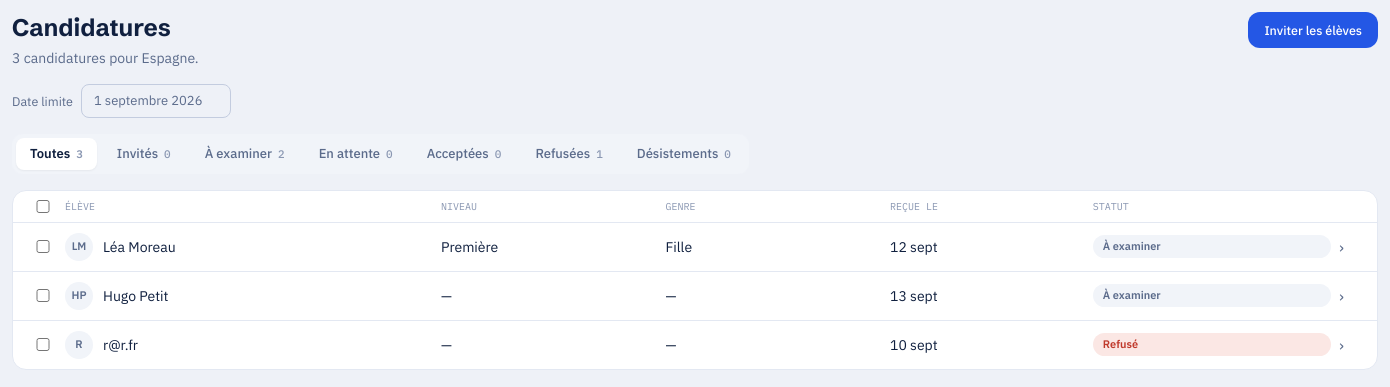
Test case: CandidaturesView › tabs filter with counts
The width and height of the screenshot is (1390, 387).
expect the text "Léa Moreau" is shown: met, box [103, 236, 176, 256]
Click the button "Refusées 1": {"x": 569, "y": 154} [521, 138, 617, 170]
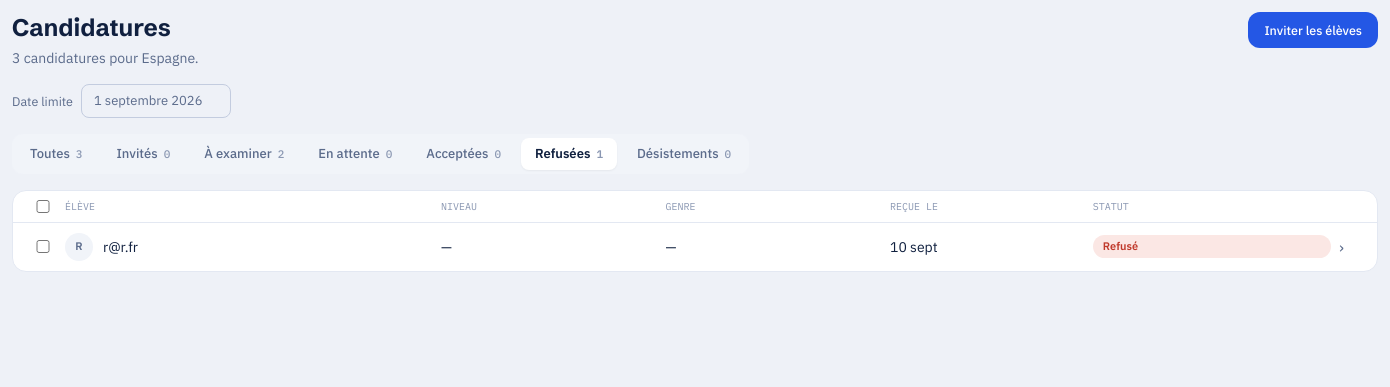
expect the text "Léa Moreau" is gone: met
